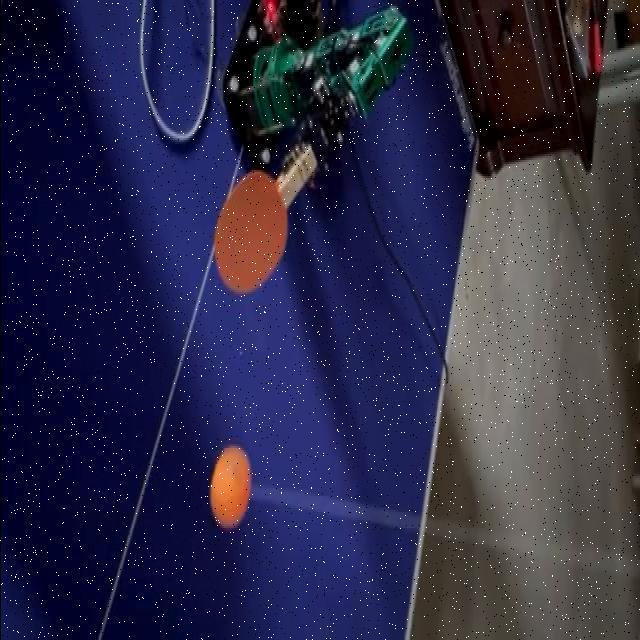ping-pong-ball: (212, 450, 250, 518)
